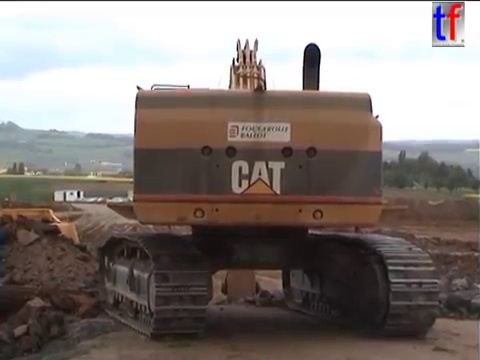excavator: (91, 34, 443, 345)
truck: (1, 204, 117, 360)
